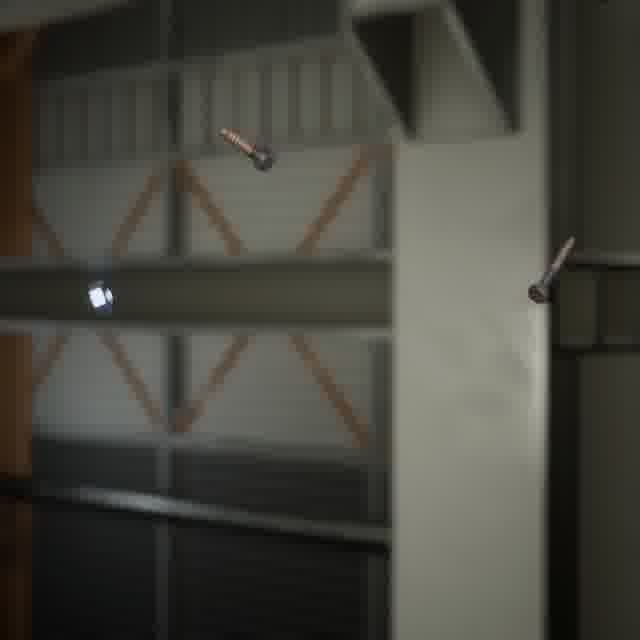bolt: (523, 232, 580, 308), (215, 121, 280, 176)
nut: (84, 275, 119, 319)
